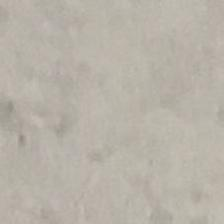Non_Crack: (24, 0, 224, 185)
